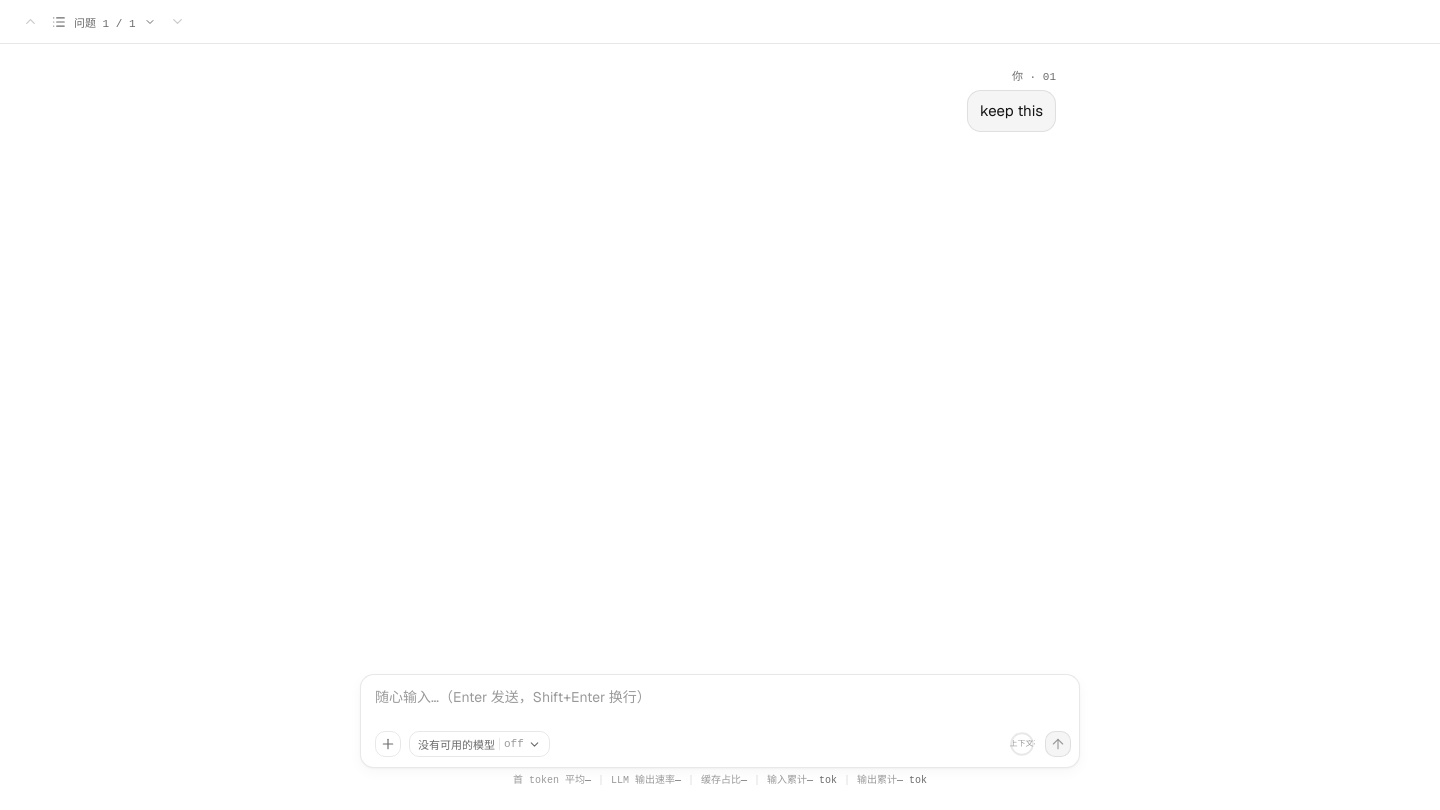
Scenario: ChatView turn and approval controls › coalesces repeated slash clear requests while the first reset is pending
The width and height of the screenshot is (1440, 810).
Type "/clear" into the dropdown with placeholder "随心输入…（Enter 发送，Shift+Enter 换行）" at (723, 704), box [375,683,1071,725]
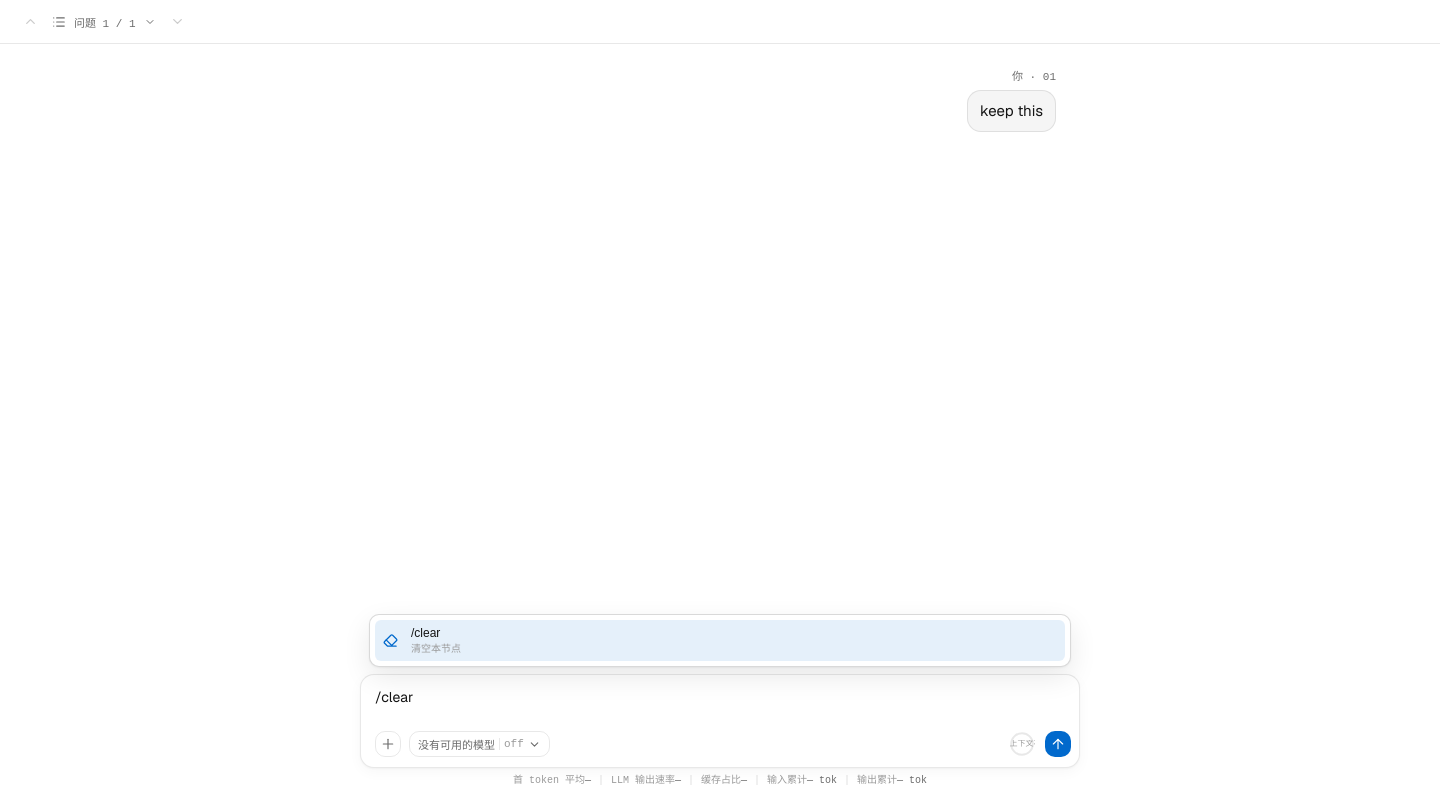
Press Enter in the dropdown with placeholder "随心输入…（Enter 发送，Shift+Enter 换行）", box [375,683,1071,725]
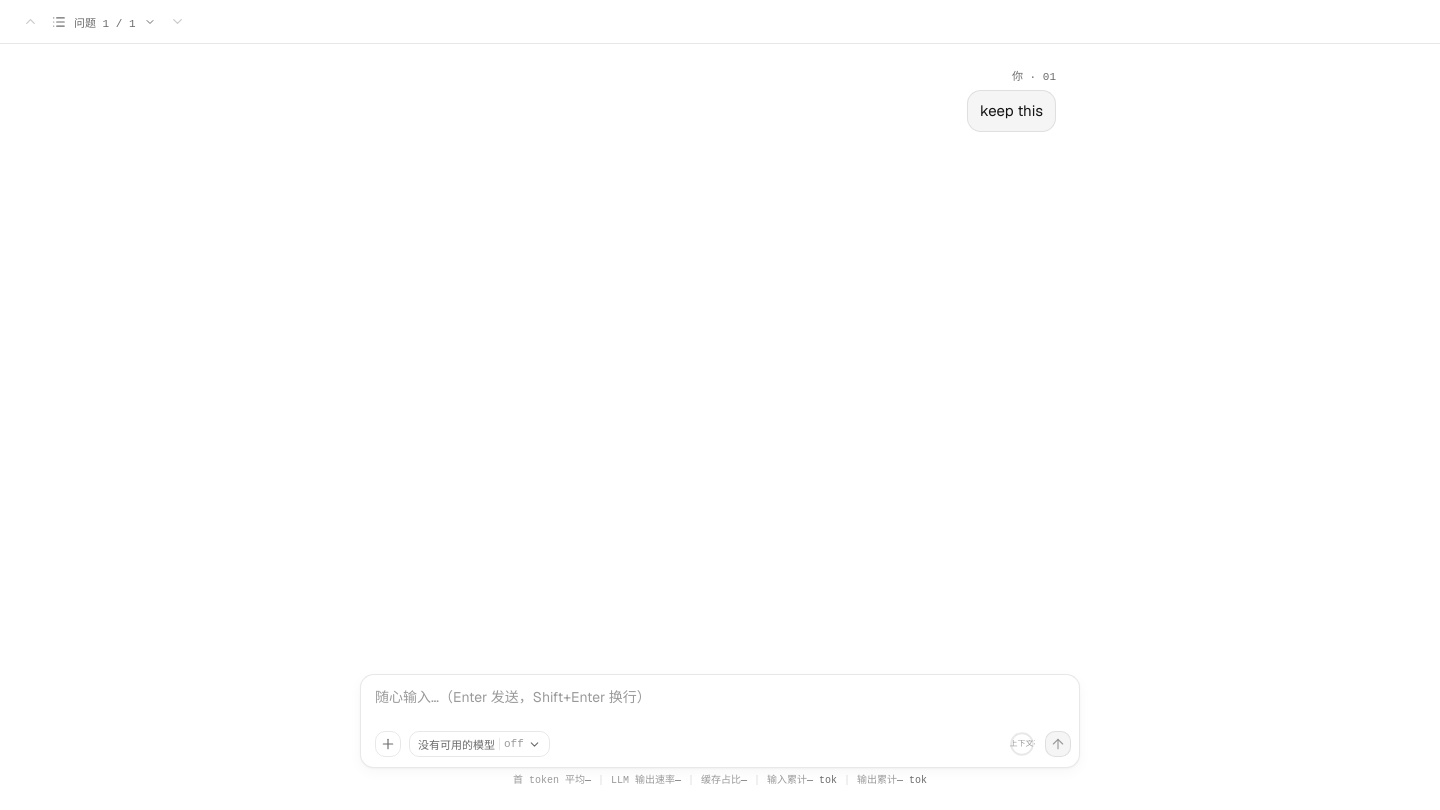
Type "/clear" into the dropdown with placeholder "随心输入…（Enter 发送，Shift+Enter 换行）" at (723, 704), box [375,683,1071,725]
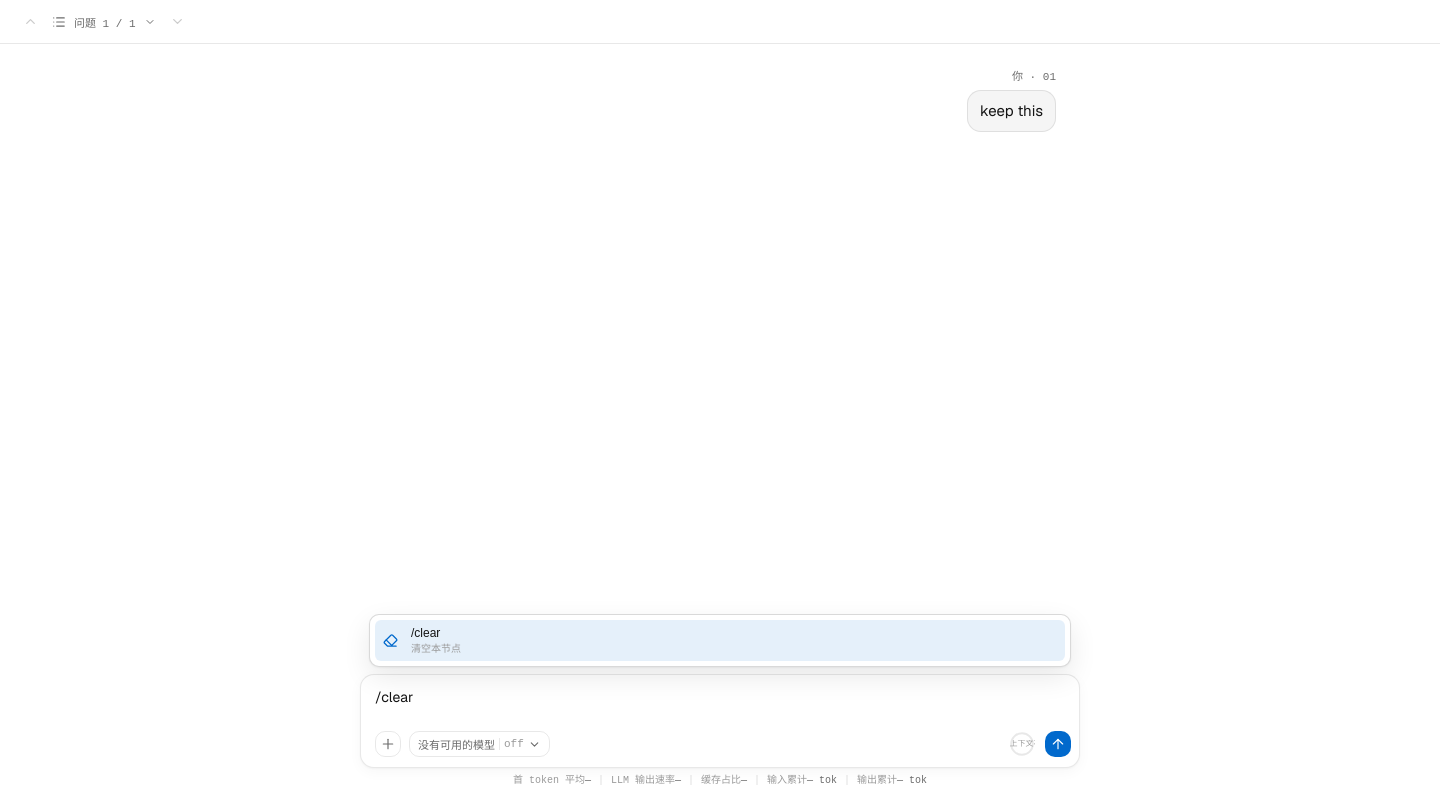
Press Enter in the dropdown with placeholder "随心输入…（Enter 发送，Shift+Enter 换行）", box [375,683,1071,725]
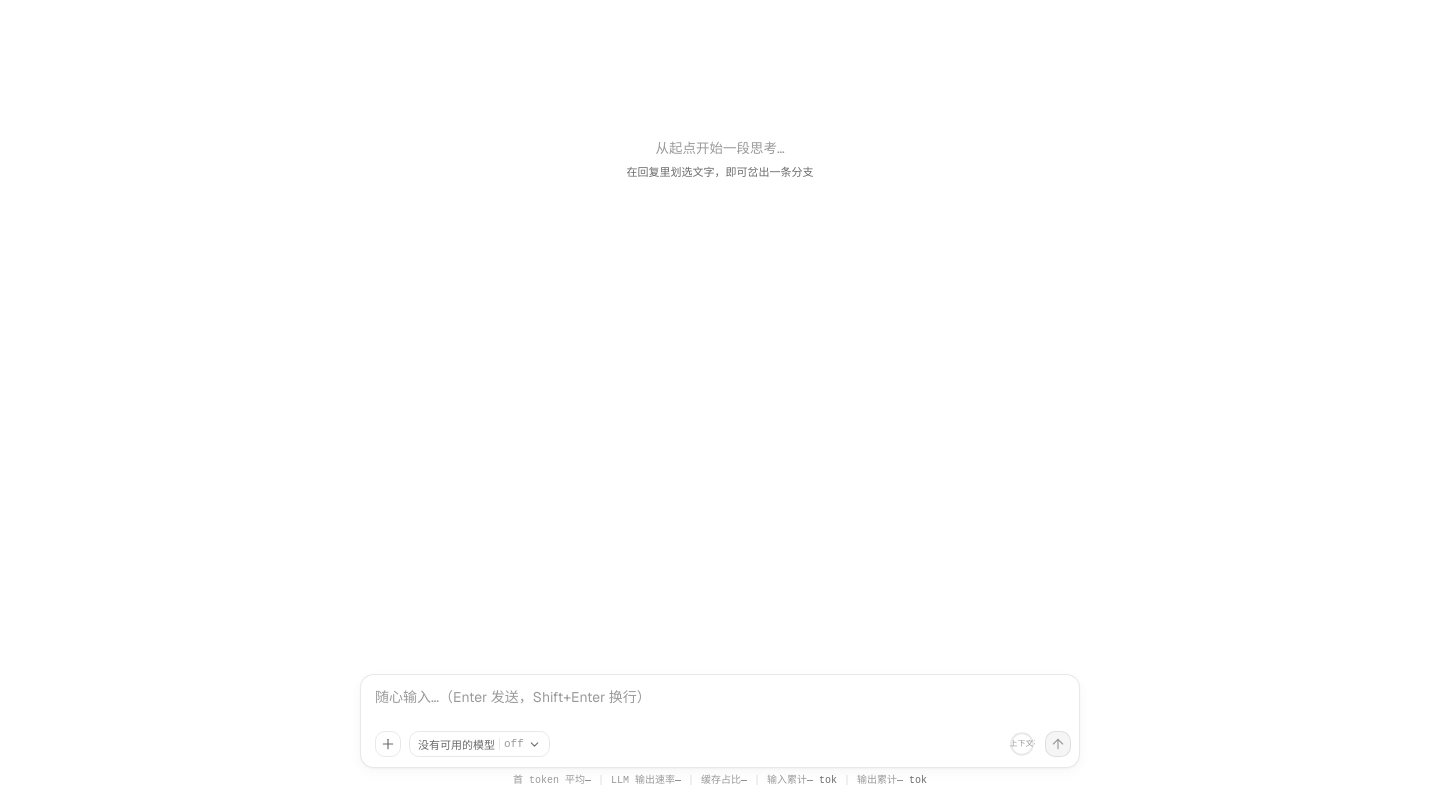
Now the text "keep this" is gone
